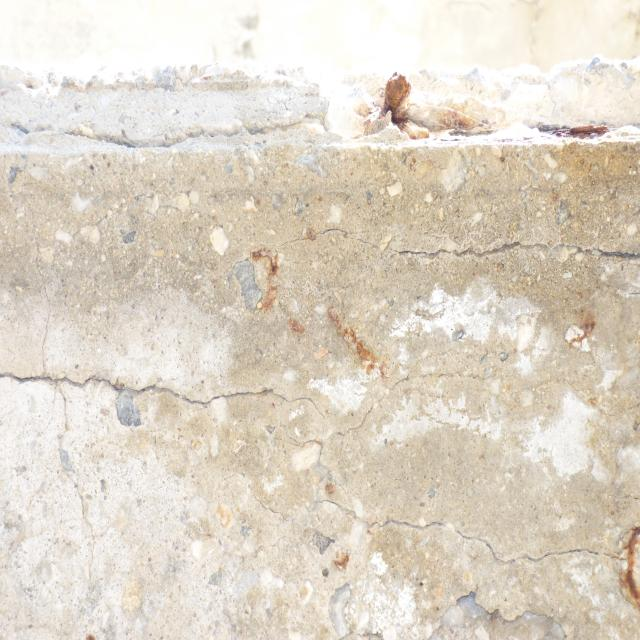corrosion: (222, 198, 413, 396), (360, 52, 640, 167), (314, 474, 372, 576), (553, 310, 616, 370), (618, 503, 640, 639)
